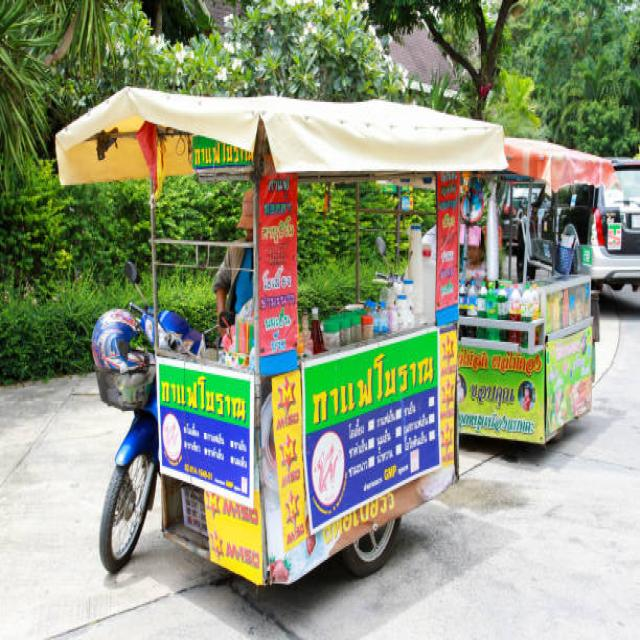Emperan: (39, 88, 516, 594), (441, 110, 622, 459)
